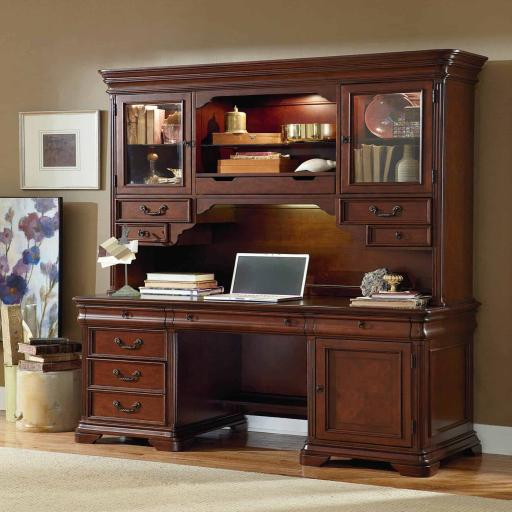desk: (70, 49, 488, 477)
wall: (0, 0, 512, 455)
